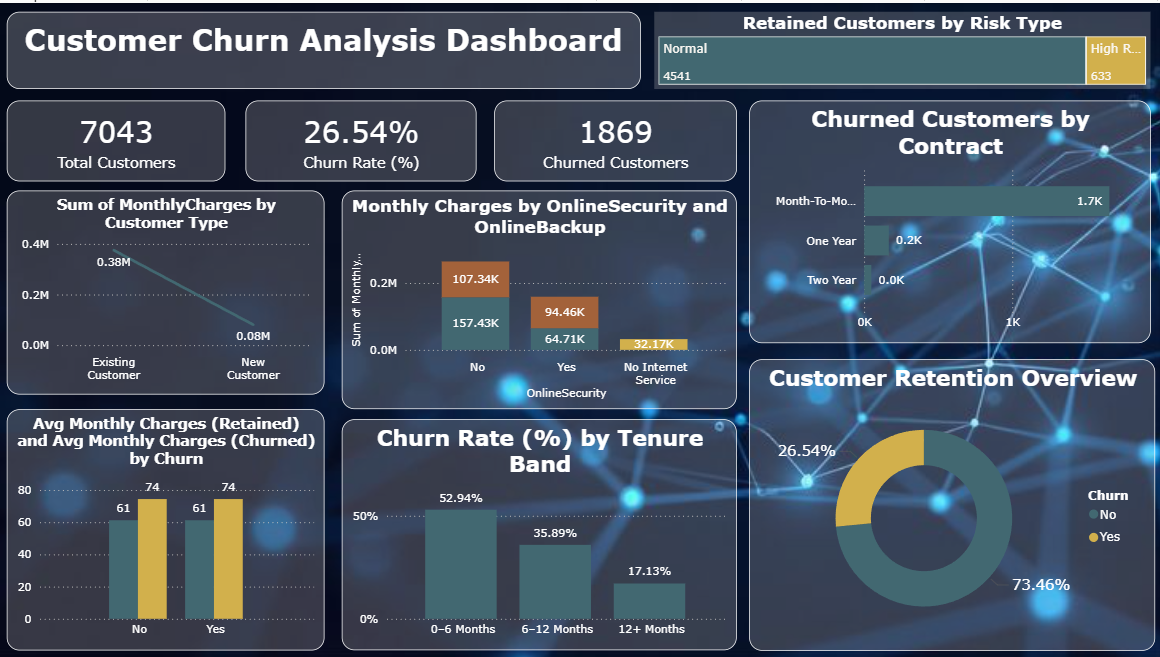

Layout of this report page (visuals, bound fields, positions):
{"tool":"powerbi","page":{"name":"Page 1","canvas":[1280,720],"ordinal":0},"visuals":[{"type":"textbox","box":[9.6,9.6,695.7,85.1],"z":0},{"type":"treemap","fields":{"Values":["Calculated Measure.Retained Customers"],"Group":["Telco_Customer_Churn_Dataset  (2).Risk Type"]},"box":[720.4,9.6,544.8,85.1],"z":1},{"type":"card","fields":{"Values":["Calculated Measure.Total Customers"]},"box":[9.6,107,240.1,89.2],"z":2},{"type":"card","fields":{"Values":["Calculated Measure.Churn Rate (%)"]},"box":[271.7,107,253.9,89.2],"z":3},{"type":"card","fields":{"Values":["Calculated Measure.Churned Customers"]},"box":[544.8,107,266.2,89.2],"z":4},{"type":"donutChart","title":"Customer Retention Overview","fields":{"Y":["Calculated Measure.Total Customers"],"Category":["Telco_Customer_Churn_Dataset  (2).Churn"]},"box":[824.7,391.1,446,319.7],"z":5},{"type":"barChart","fields":{"Category":["Telco_Customer_Churn_Dataset  (2).Contract"],"Y":["Calculated Measure.Churned Customers"]},"box":[824.7,107,440.5,266.2],"z":6},{"type":"columnChart","title":"Monthly Charges by OnlineSecurity and OnlineBackup","fields":{"Category":["Telco_Customer_Churn_Dataset  (2).OnlineSecurity"],"Y":["Sum(Telco_Customer_Churn_Dataset  (2).MonthlyCharges)"],"Series":["Telco_Customer_Churn_Dataset  (2).OnlineBackup"]},"box":[377.4,205.8,433.6,240.1],"z":7},{"type":"columnChart","fields":{"Category":["Telco_Customer_Churn_Dataset  (2).Tenure Band"],"Y":["Calculated Measure.Churn Rate (%)"]},"box":[377.4,456.9,433.6,253.9],"z":8},{"type":"clusteredColumnChart","fields":{"Y":["Calculated Measure.Avg Monthly Charges (Retained)","Calculated Measure.Avg Monthly Charges (Churned)"],"Category":["Telco_Customer_Churn_Dataset  (2).Churn"]},"box":[9.6,446,348.5,264.8],"z":9},{"type":"lineChart","fields":{"Category":["Telco_Customer_Churn_Dataset  (2).Customer Type"],"Y":["Sum(Telco_Customer_Churn_Dataset  (2).MonthlyCharges)"]},"box":[9.6,205.8,348.5,223.7],"z":10}]}

Visuals, with their boxes in screenshot pixels (x1, y1, x2, y2), scaled from the page's 1280x720 canvas onto the 1160x657 screenshot:
textbox: bbox(9, 9, 639, 86)
treemap - Calculated Measure.Retained Customers x Telco_Customer_Churn_Dataset  (2).Risk Type: bbox(653, 9, 1147, 86)
card - Calculated Measure.Total Customers: bbox(9, 98, 226, 179)
card - Calculated Measure.Churn Rate (%): bbox(246, 98, 476, 179)
card - Calculated Measure.Churned Customers: bbox(494, 98, 735, 179)
"Customer Retention Overview" donutChart: bbox(747, 357, 1152, 649)
barChart - Telco_Customer_Churn_Dataset  (2).Contract x Calculated Measure.Churned Customers: bbox(747, 98, 1147, 341)
"Monthly Charges by OnlineSecurity and OnlineBackup" columnChart: bbox(342, 188, 735, 407)
columnChart - Telco_Customer_Churn_Dataset  (2).Tenure Band x Calculated Measure.Churn Rate (%): bbox(342, 417, 735, 649)
clusteredColumnChart - Calculated Measure.Avg Monthly Charges (Retained) x Calculated Measure.Avg Monthly Charges (Churned): bbox(9, 407, 325, 649)
lineChart - Telco_Customer_Churn_Dataset  (2).Customer Type x Sum(Telco_Customer_Churn_Dataset  (2).MonthlyCharges): bbox(9, 188, 325, 392)
